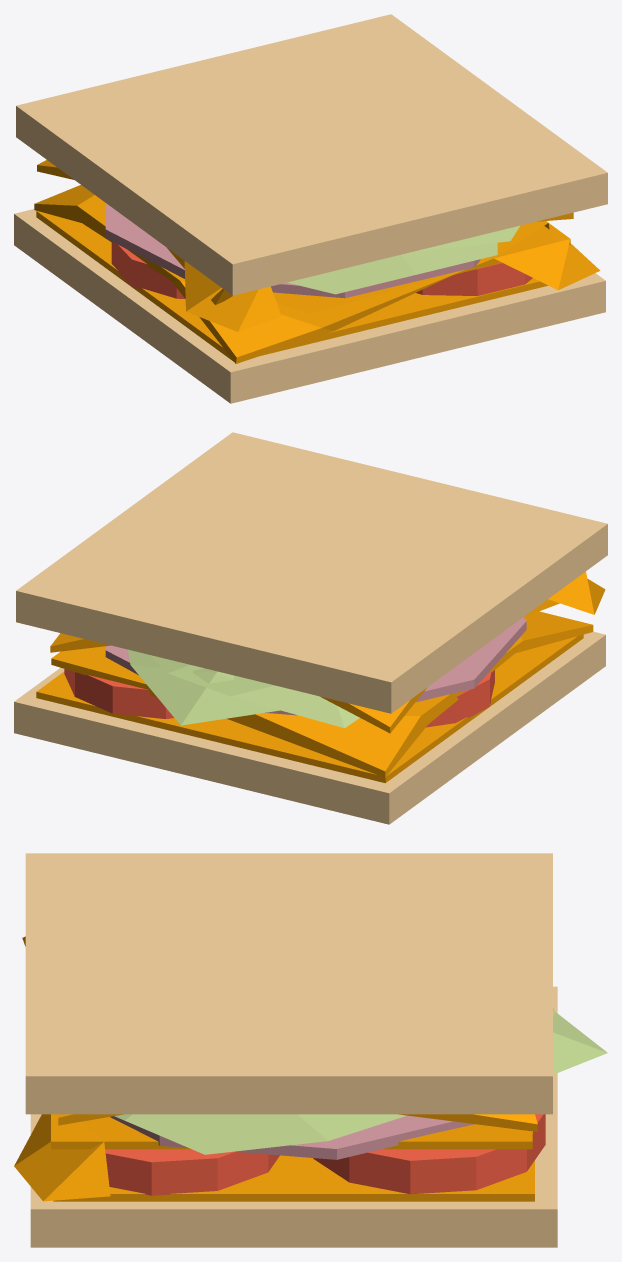
The model's file is sandwich.glb.
The picture shows the model from 3 angles, top to bottom: view 1: azimuth 30°, elevation 25°; view 2: azimuth 150°, elevation 25°; view 3: azimuth 270°, elevation 25°; orthographic projection. The views are drawn at different scales.
Visible parts, largest first — view 1: UpperBread, LowerBread, CheeseMiddle, CheeseLower, CheeseUpper, LettuceLower, Ham, Tomato1, Tomato3, LettuceUpper; view 2: UpperBread, LowerBread, CheeseMiddle, CheeseLower, LettuceLower, LettuceUpper, CheeseUpper, Ham, Tomato2, Tomato3; view 3: UpperBread, LowerBread, CheeseMiddle, CheeseLower, Tomato2, LettuceUpper, Tomato1, Ham, LettuceLower, CheeseUpper.
Part boxes in pixels (bbox=[...]): UpperBread: bbox=[16, 14, 607, 295]; LowerBread: bbox=[14, 209, 605, 403]; CheeseMiddle: bbox=[34, 185, 600, 363]; CheeseLower: bbox=[36, 211, 547, 361]; CheeseUpper: bbox=[37, 160, 573, 331]; LettuceLower: bbox=[287, 242, 497, 294]; Ham: bbox=[105, 203, 480, 298]; Tomato1: bbox=[416, 262, 532, 295]; Tomato3: bbox=[111, 242, 184, 298]; LettuceUpper: bbox=[415, 225, 519, 251]; UpperBread: bbox=[16, 432, 607, 713]; LowerBread: bbox=[14, 631, 605, 824]; CheeseMiddle: bbox=[51, 611, 593, 777]; CheeseLower: bbox=[36, 634, 583, 783]; LettuceLower: bbox=[128, 649, 279, 725]; LettuceUpper: bbox=[150, 655, 359, 728]; CheeseUpper: bbox=[50, 571, 605, 733]; Ham: bbox=[105, 617, 526, 715]; Tomato2: bbox=[64, 669, 173, 718]; Tomato3: bbox=[426, 670, 494, 727]; UpperBread: bbox=[25, 853, 552, 1114]; LowerBread: bbox=[30, 986, 557, 1247]; CheeseMiddle: bbox=[14, 1114, 532, 1201]; CheeseLower: bbox=[53, 1155, 534, 1201]; Tomato2: bbox=[313, 1114, 545, 1194]; LettuceUpper: bbox=[114, 1008, 554, 1154]; Tomato1: bbox=[105, 1149, 279, 1195]; Ham: bbox=[110, 1115, 474, 1159]; LettuceLower: bbox=[553, 1011, 607, 1074]; CheeseUpper: bbox=[22, 936, 537, 1131].
Bounding box in the file's own units: 2.22 × 0.7174 × 2.25.
